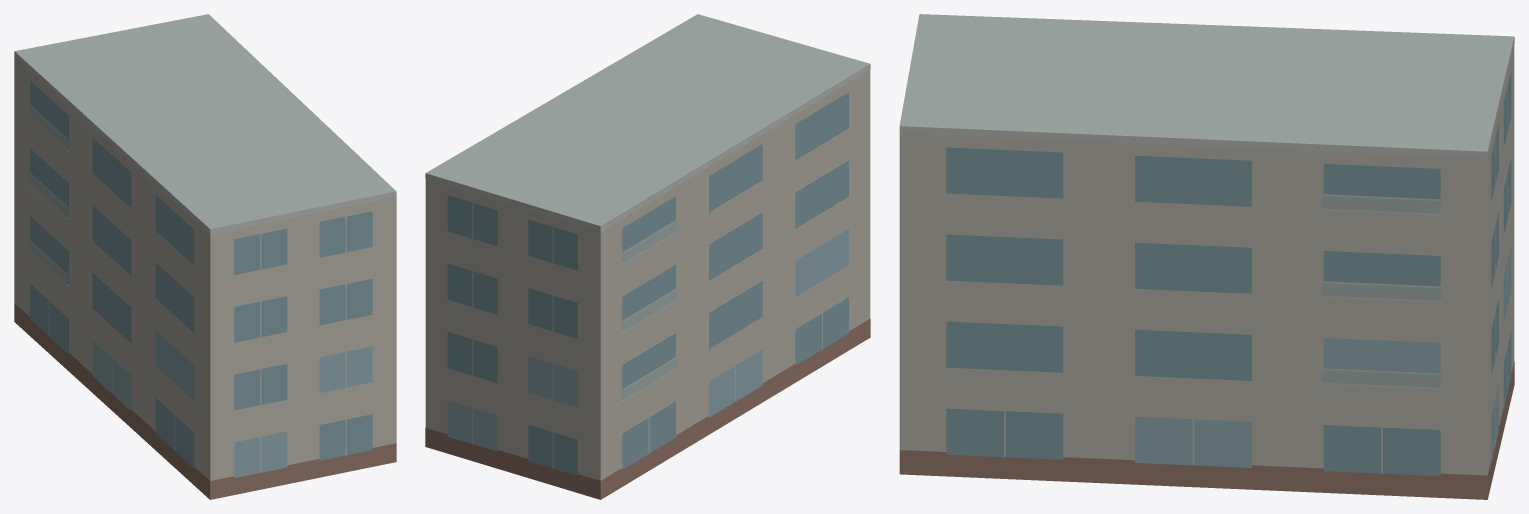
The model's file is survey-upis-32702105.glb.
3 views of the same model, side by side, from view 1: azimuth 30°, elevation 25°; view 2: azimuth 150°, elevation 25°; view 3: azimuth 270°, elevation 25° (orthographic). The views are drawn at different scales.
Visible parts, largest first — view 1: survey-upis-32702105.tmp; view 2: survey-upis-32702105.tmp; view 3: survey-upis-32702105.tmp.
Part boxes in pixels (bbox=[...]): survey-upis-32702105.tmp: bbox=[14, 14, 396, 499]; survey-upis-32702105.tmp: bbox=[425, 14, 870, 499]; survey-upis-32702105.tmp: bbox=[899, 14, 1514, 499].
Bounding box in the file's own units: 10.27 × 12.1 × 19.38.
